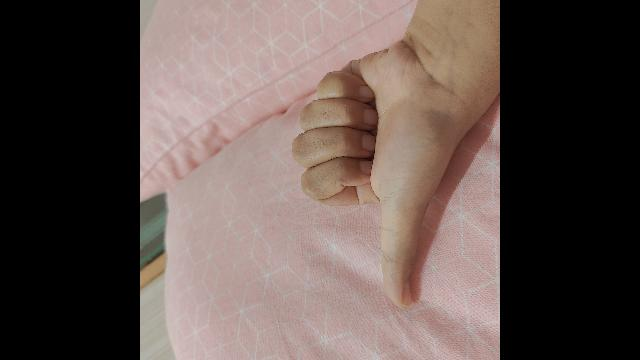shikhar: (292, 0, 500, 305)
